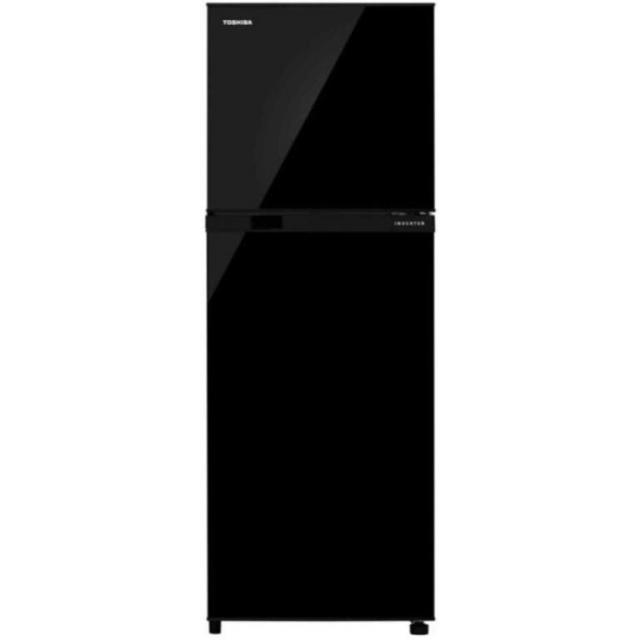refrigerator: (205, 2, 437, 621)
